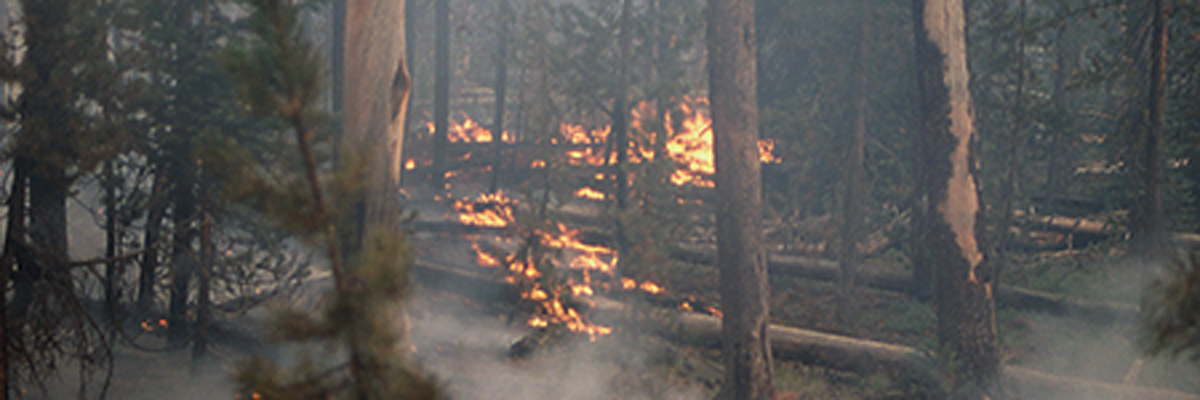fire: (405, 156, 743, 376), (391, 73, 802, 229)
